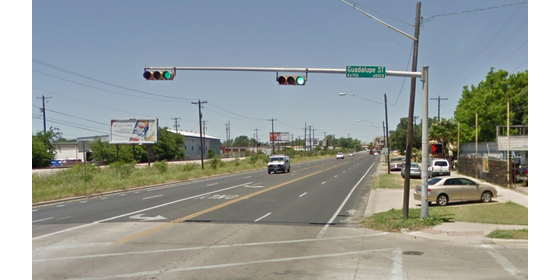street name sign: (346, 65, 387, 79)
